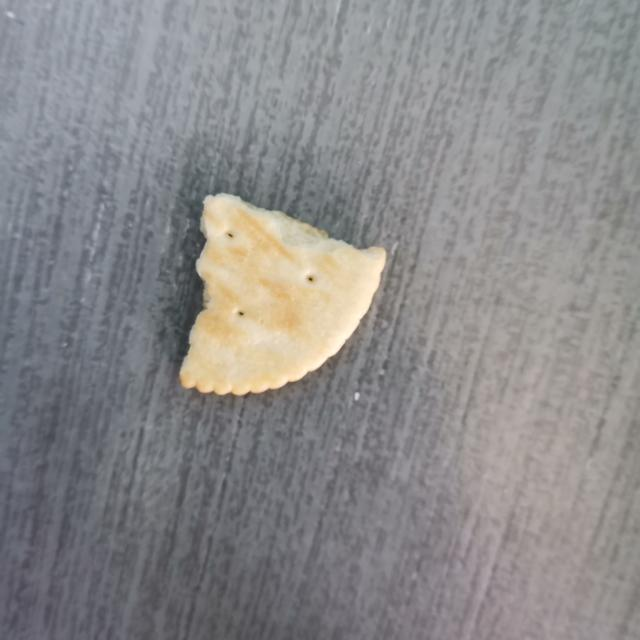Broken: (178, 191, 387, 397)
